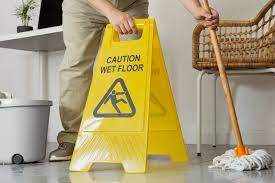wet caution sign: (73, 6, 193, 180)
